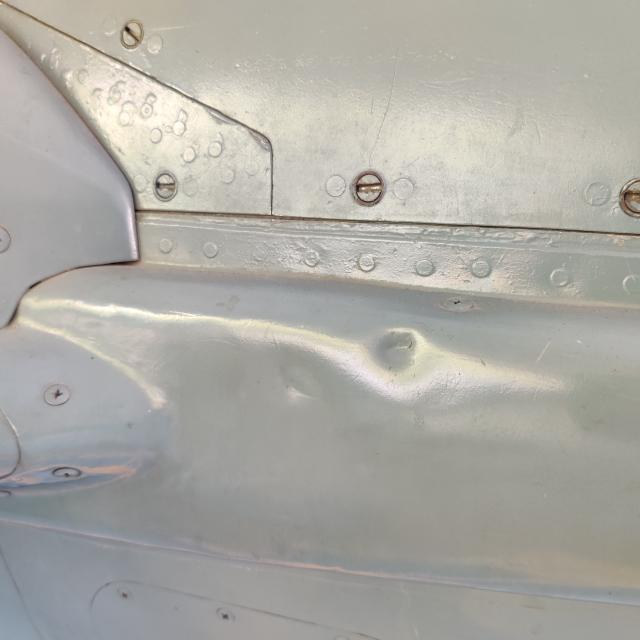dent: (352, 307, 446, 388), (266, 363, 332, 418)
